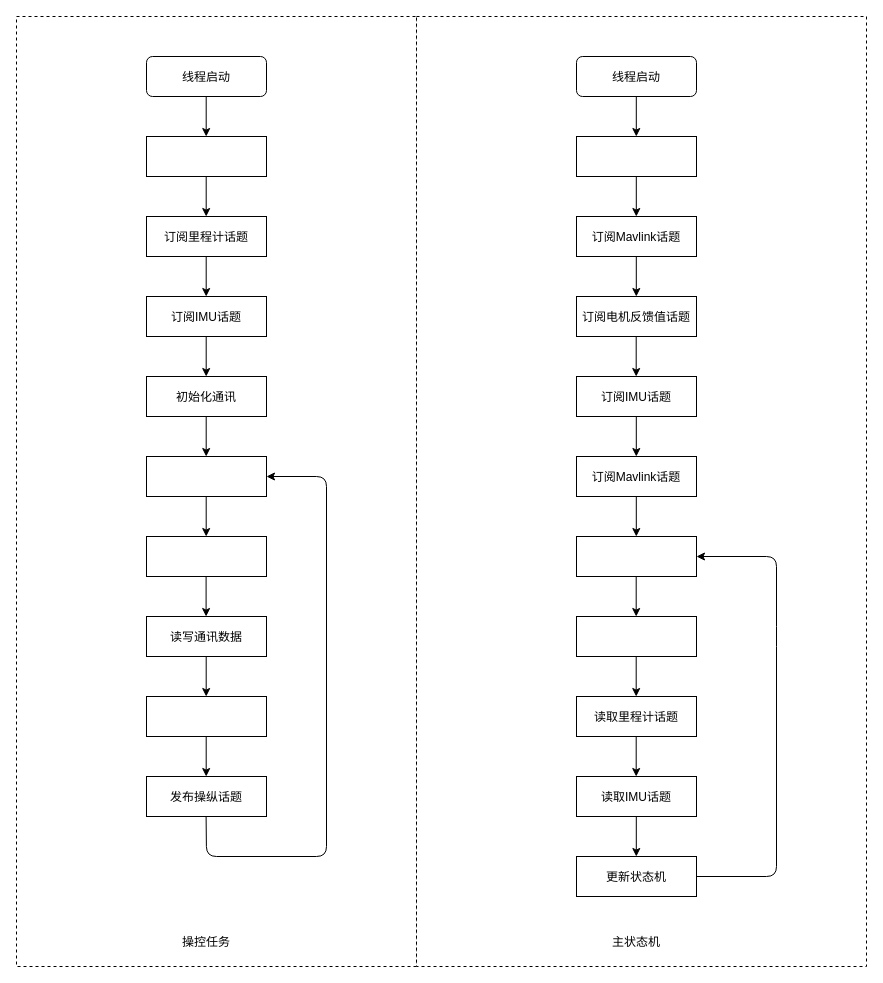
Image size: 883x983. Some labels were removed from this diagram. The box of each missing label's shape, as (x1, y1, x2, y2) in pixels:
创建操控话题: (146, 136, 266, 176)
初始化主状态机: (576, 136, 696, 176)
解码数据: (146, 696, 266, 736)
读取主状态机: (146, 456, 266, 496)
读取各话题: (146, 536, 266, 576)
读取操纵话题: (576, 536, 696, 576)
读取电机反馈值话题: (576, 616, 696, 656)
